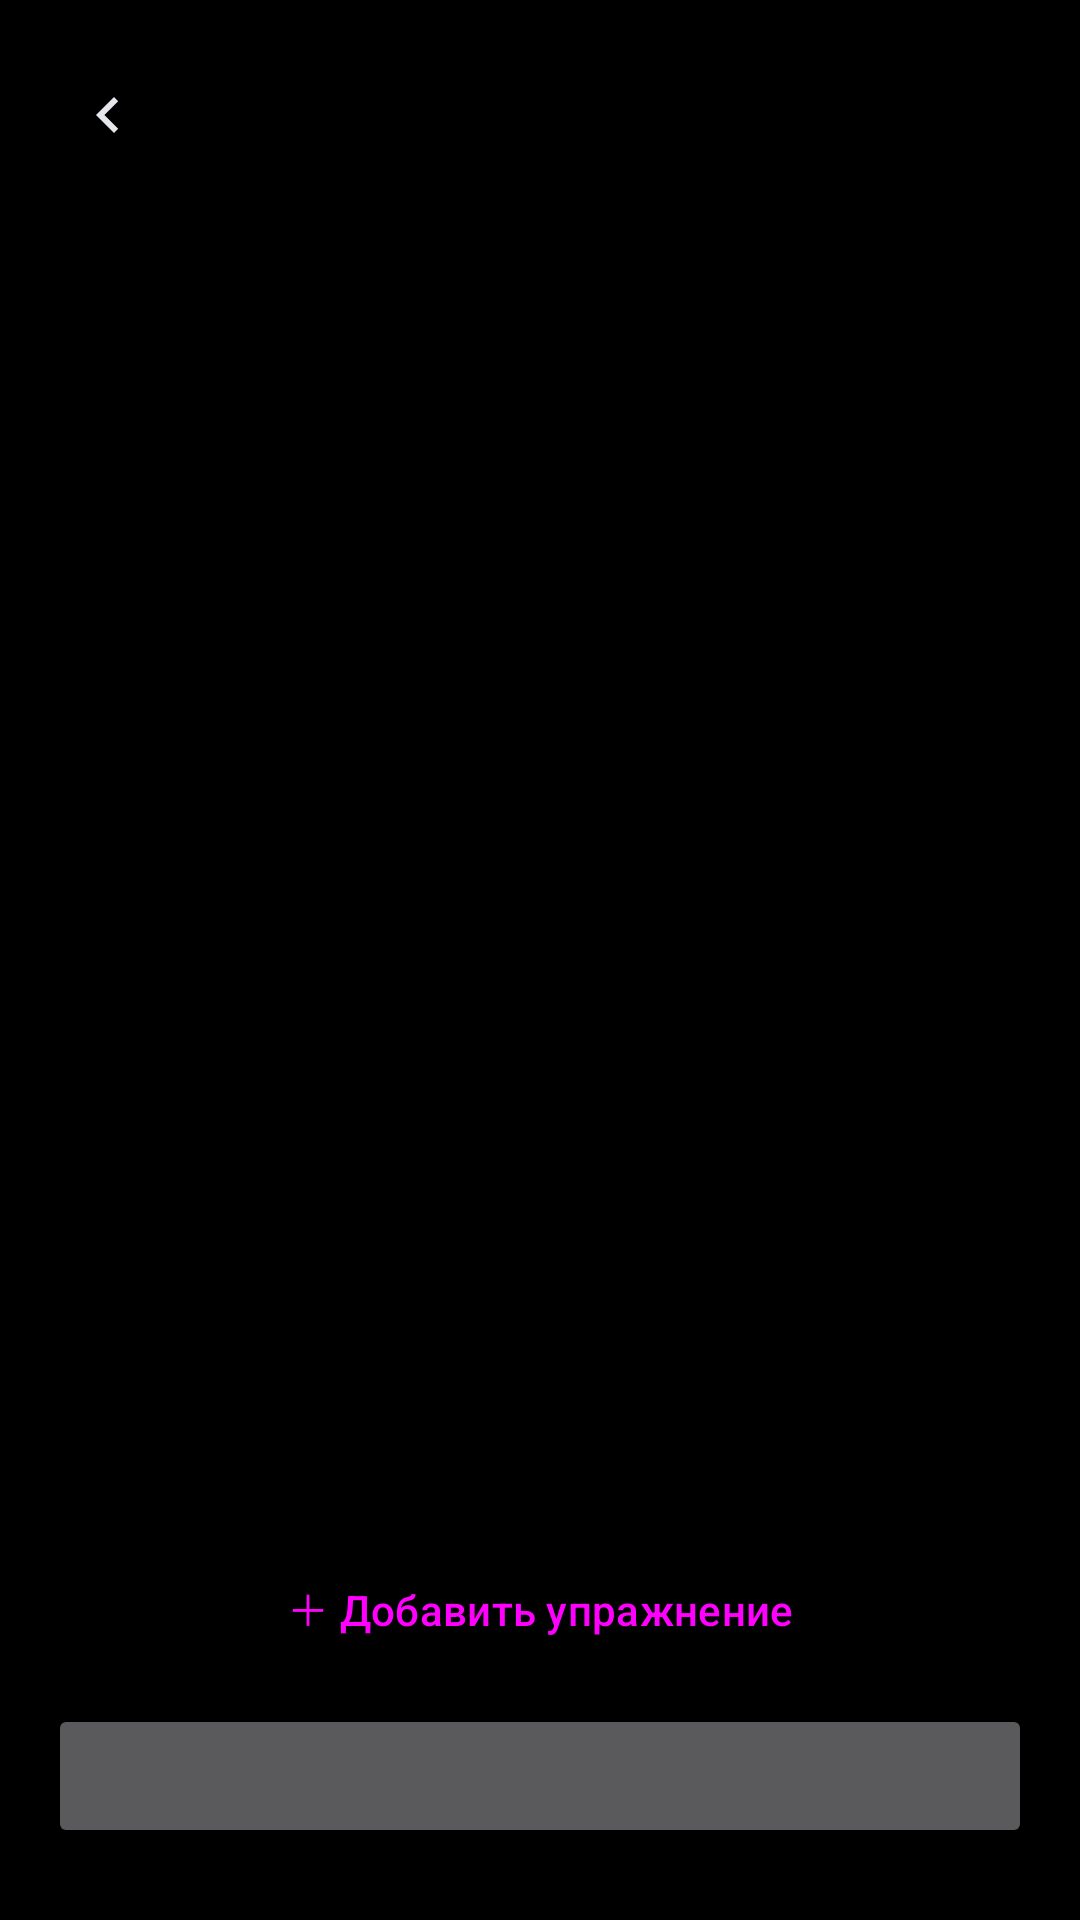

Icon click points for this 1080 × 1920 phone screenshot, format (x=x, y=y):
Назад: (x=107, y=115)
